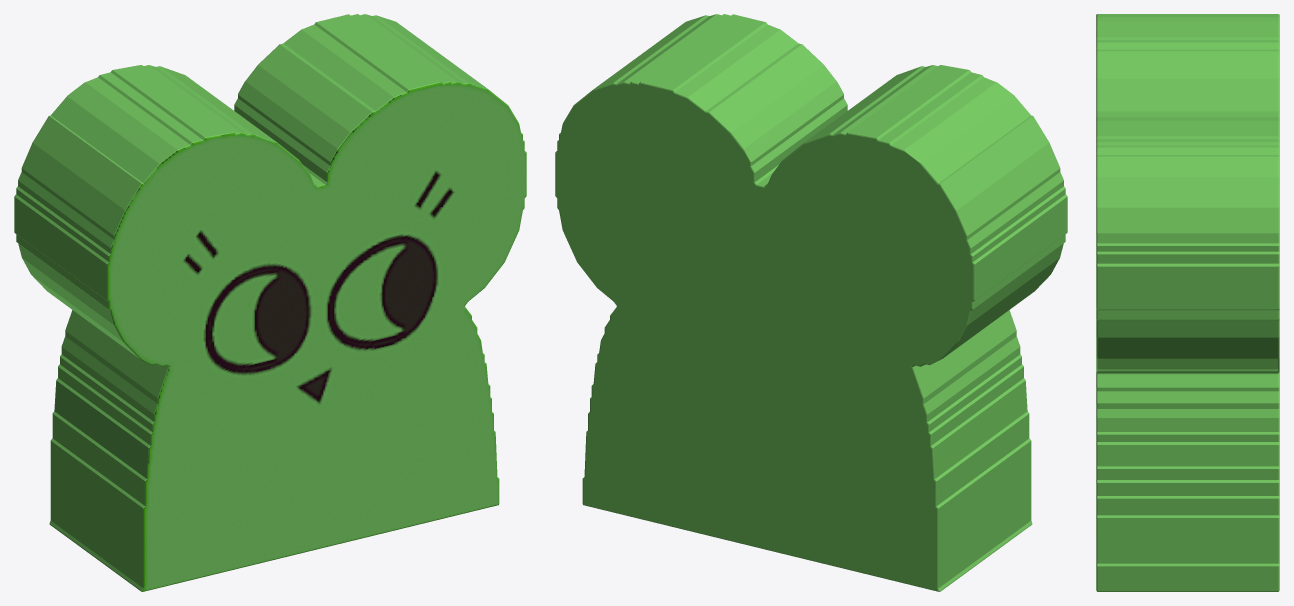
File: alliance-warrior.glb
3 views of the same model, side by side, from view 1: azimuth 30°, elevation 25°; view 2: azimuth 150°, elevation 25°; view 3: azimuth 270°, elevation 25° (orthographic). The views are drawn at different scales.
Parts seen in each view (by area): view 1: alliance-warrior.001; view 2: alliance-warrior.001; view 3: alliance-warrior.001.
Boxes of the visible parts, x1,y1,x2,y2 form: alliance-warrior.001: (14,14,526,591); alliance-warrior.001: (555,14,1067,591); alliance-warrior.001: (1096,14,1279,591).
Size of the model in its own units: 0.75 by 0.75 by 0.2891.
2 materials, 1 textured.
